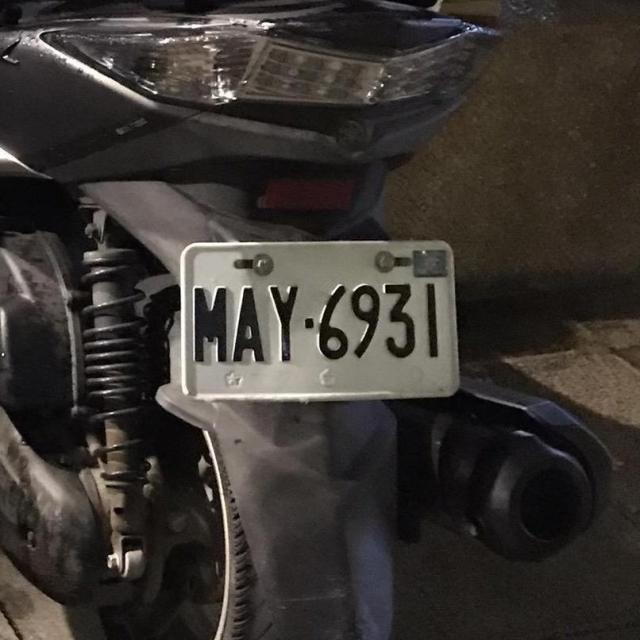W: (169, 223, 467, 415)
